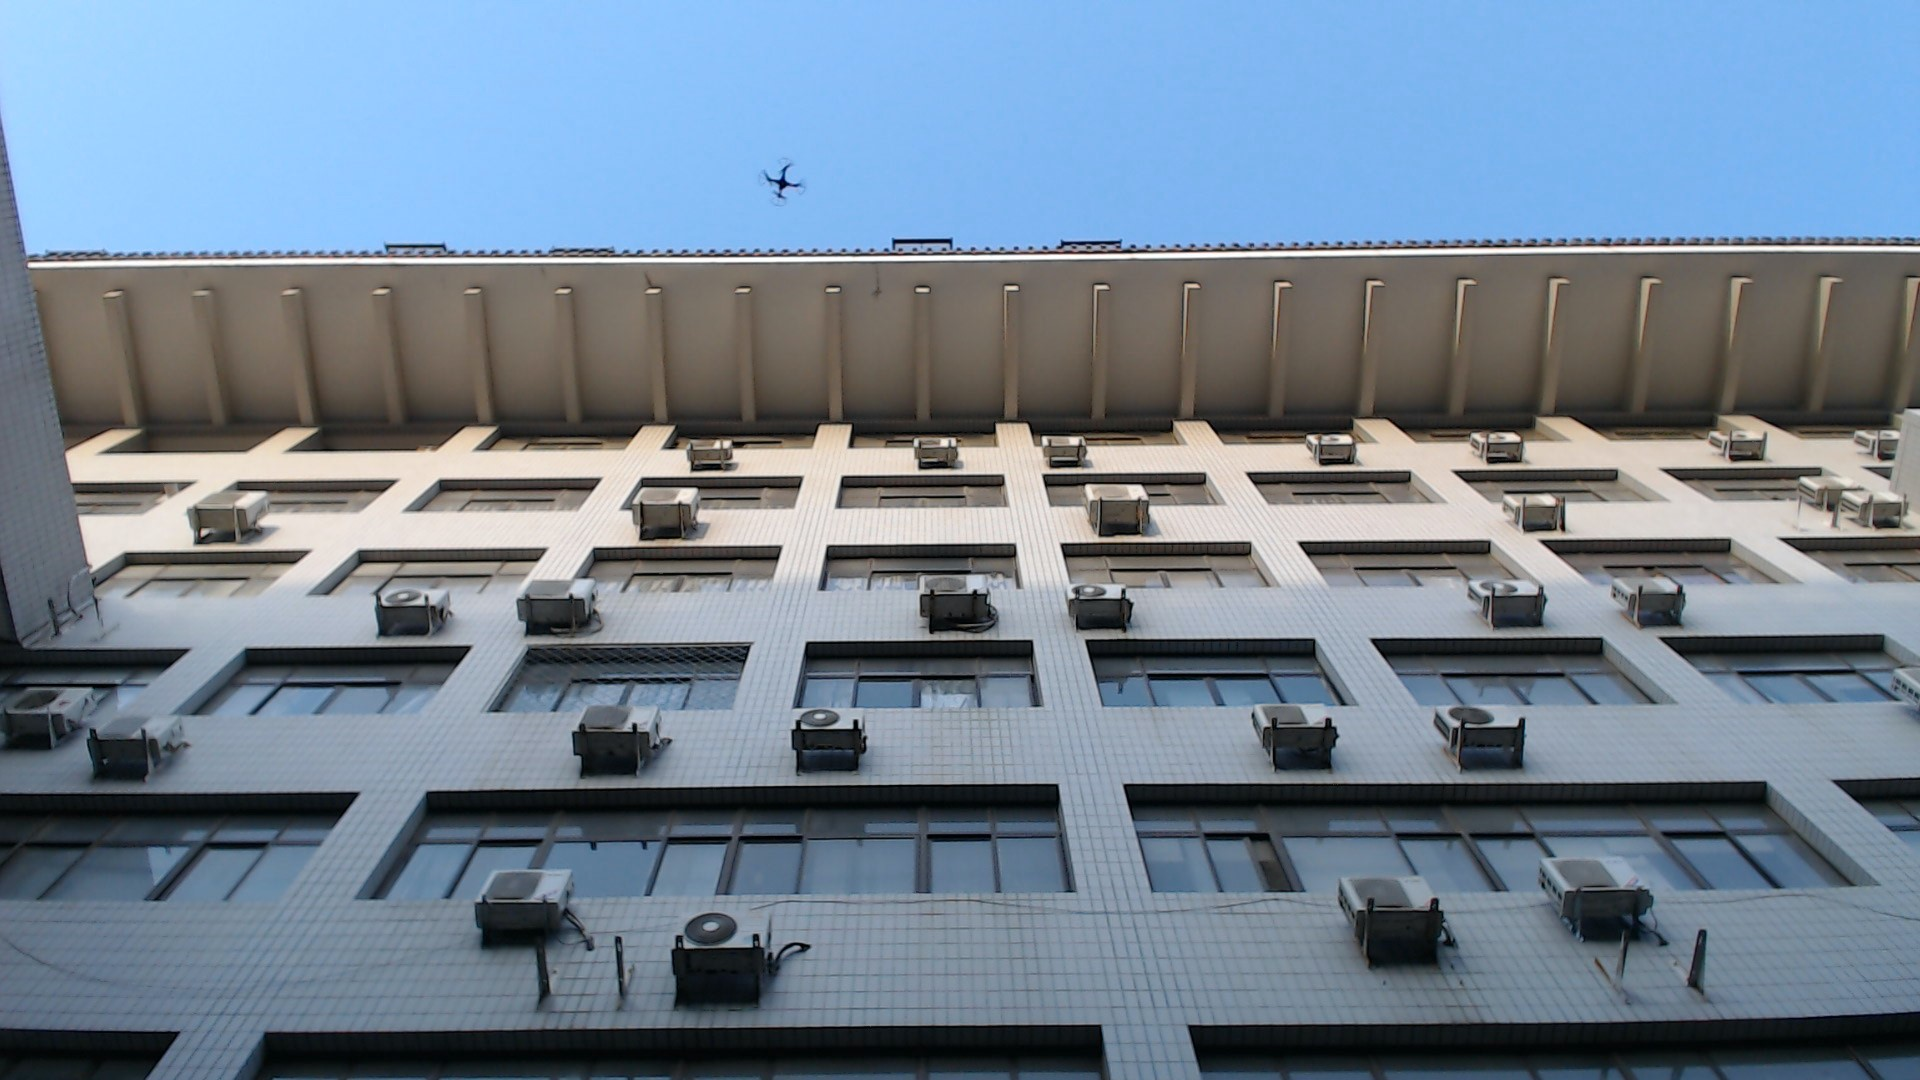drone: (741, 142, 822, 214)
